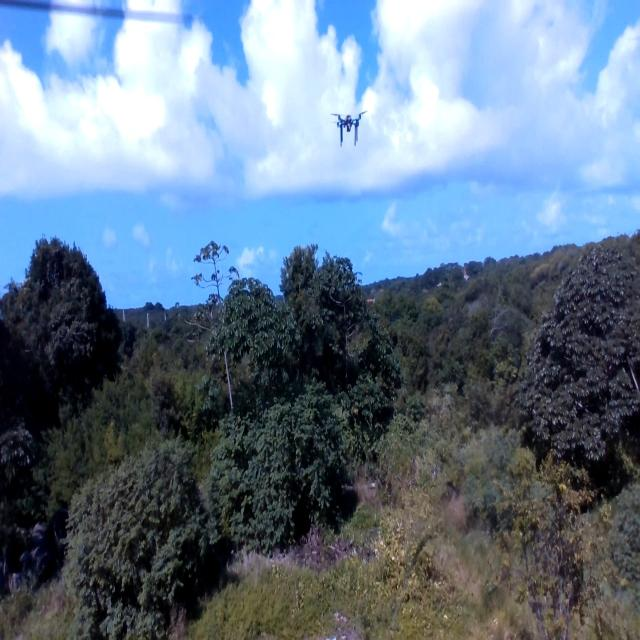-uav-: (324, 105, 371, 149)
